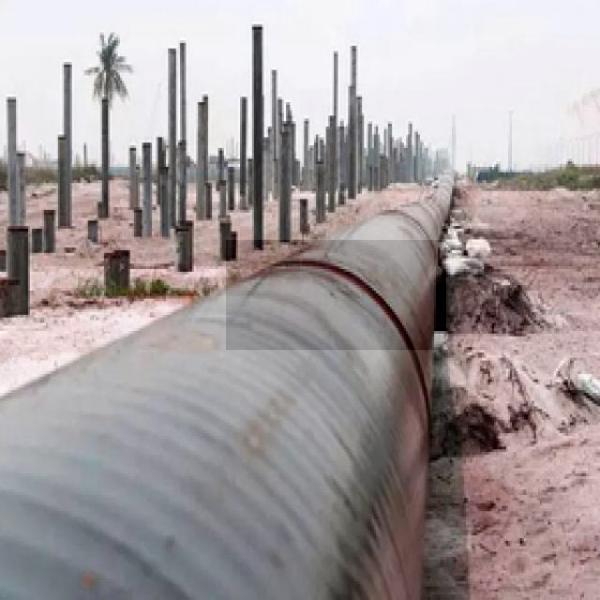crack: (226, 240, 446, 350)
